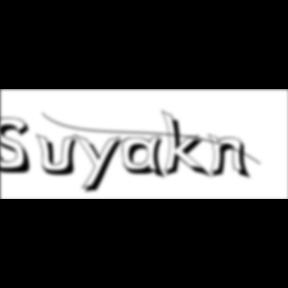S: (1, 117, 37, 176)
a: (122, 135, 170, 182)
k: (162, 108, 215, 181)
n: (208, 132, 256, 181)
u: (36, 132, 84, 178)
y: (74, 132, 128, 196)
